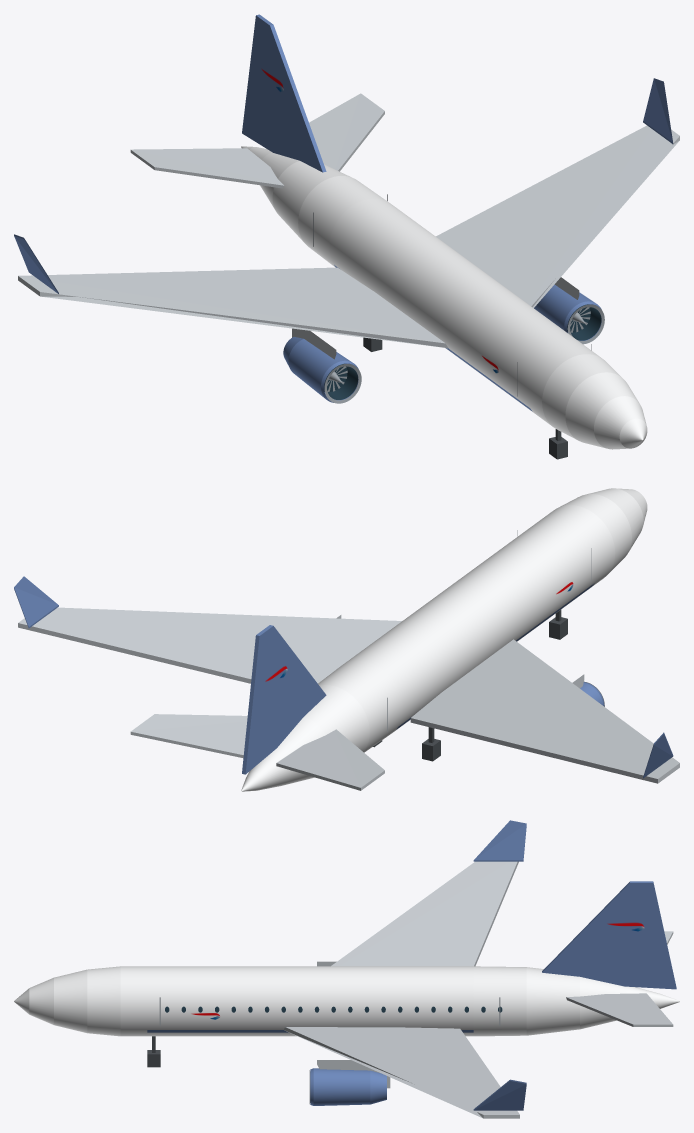
The model's file is a320-BAW-v3.gltf.
The picture shows the model from 3 angles, top to bottom: view 1: azimuth 30°, elevation 25°; view 2: azimuth 150°, elevation 25°; view 3: azimuth 270°, elevation 25°; orthographic projection. The views are drawn at different scales.
Visible parts, largest first — view 1: object 1, Gear; view 2: object 1, Gear; view 3: object 1.
Boxes of the visible parts, x1,y1,x2,y2 form: object 1: [14, 14, 679, 449]; Gear: [363, 337, 567, 459]; object 1: [14, 488, 679, 791]; Gear: [373, 610, 567, 761]; object 1: [14, 820, 679, 1118].
Size of the model in its own units: 35 by 11.51 by 38.
8 materials, 1 textured.
